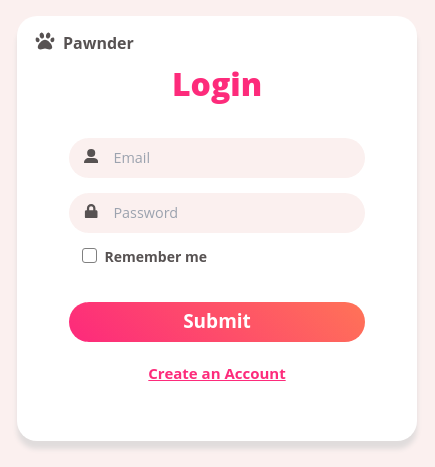
LoginForm › shows an error message if login fails
Note: Fill in the email and password
Type "test@example.com" into the field with placeholder "Email" at x=220, y=158, box [113,140,326,175]
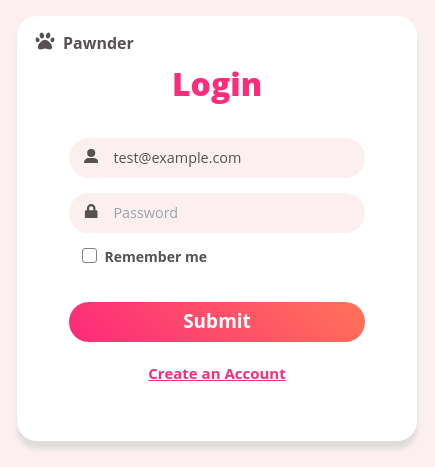
Type "wrongpassword" into the password field with placeholder "Password" at x=220, y=212, box [113,195,326,230]
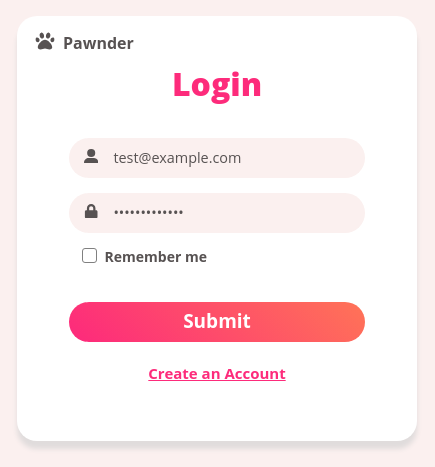
Note: Submit the form
Click the button "Submit" at x=217, y=322, box [69,302,365,342]
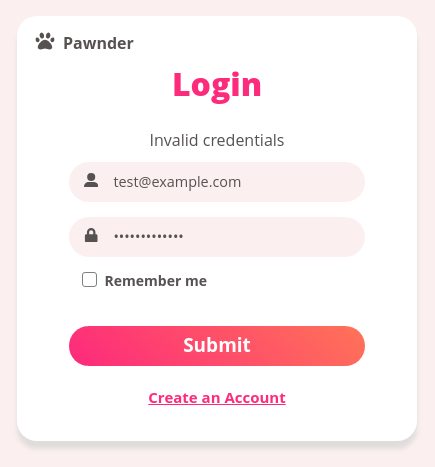
Expected: the text "Invalid credentials" is shown, [150,128,284,152]
